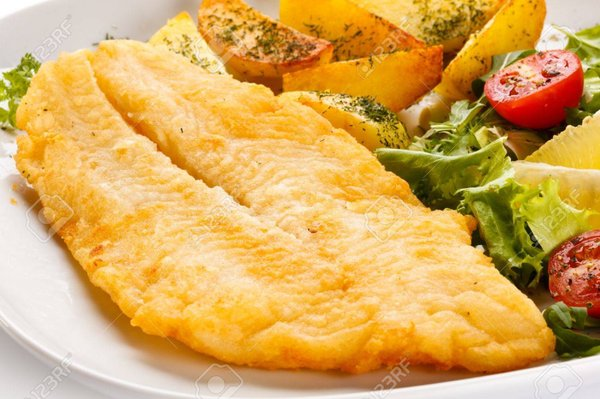soup: (7, 33, 562, 377)
